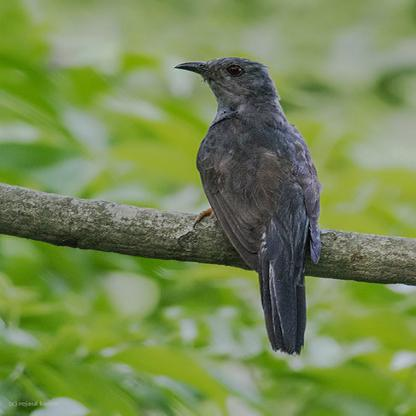Burung: (174, 57, 320, 355)
